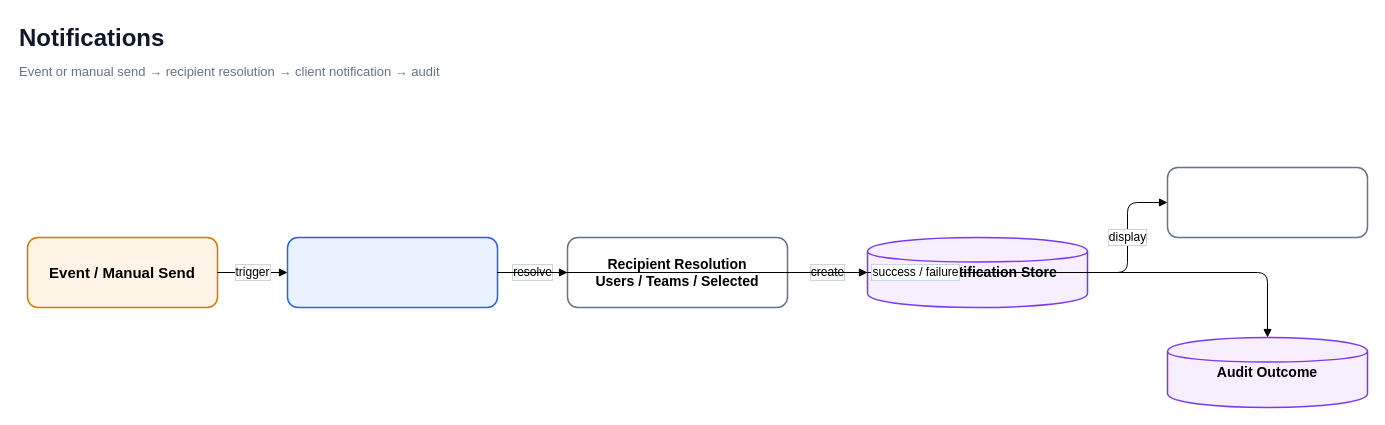
This 1385x425 diagram has some shape labels left out. The shapes that lost their labels are listed below. From the top down, each one's centre as x and y in pixels, then its label:
At (x=1267, y=202): "Notification UI unread / read".
At (x=392, y=272): "NotificationService".
